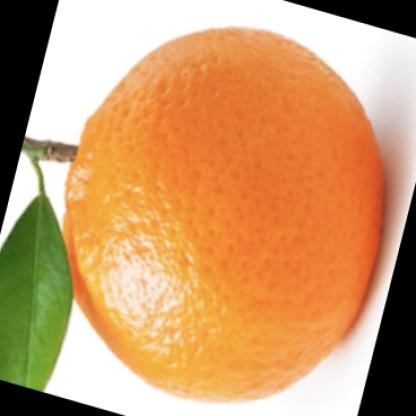fresh: (60, 28, 387, 400)
